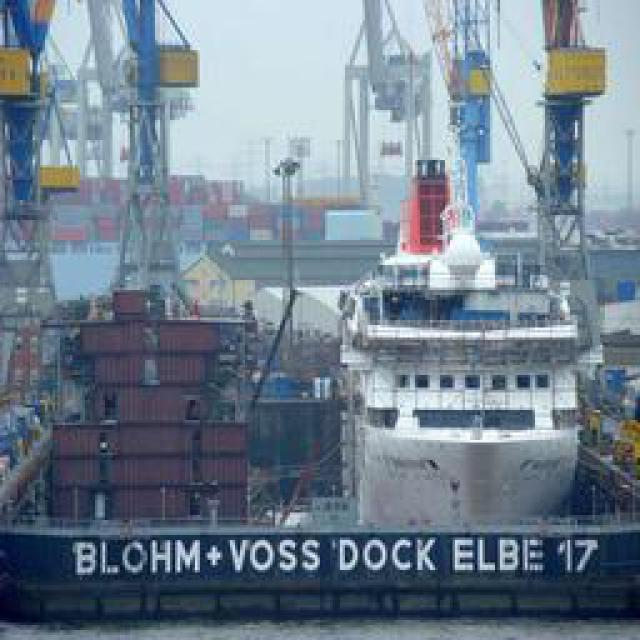Ship: (234, 234, 589, 527)
